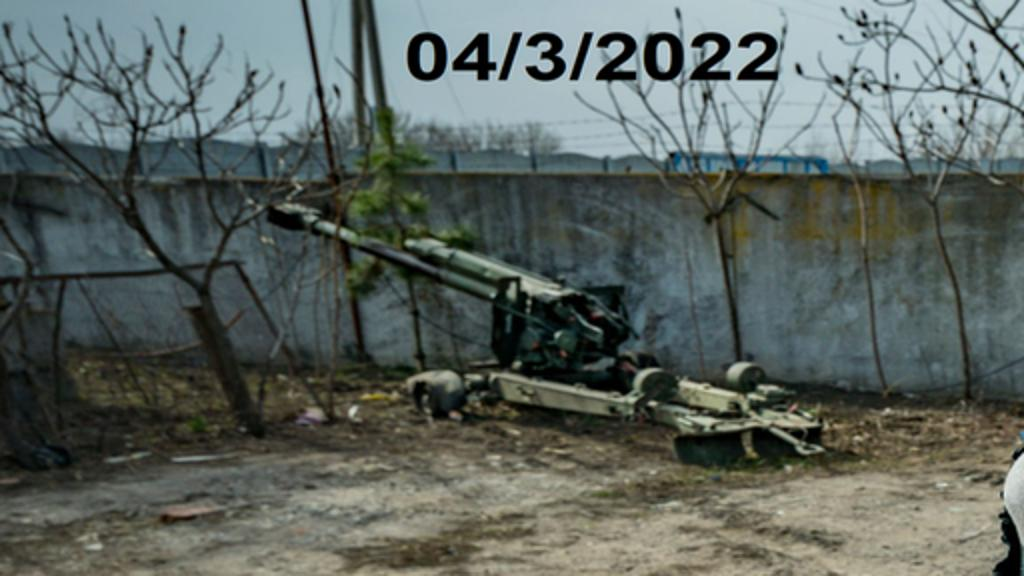ART: (264, 196, 826, 466)
